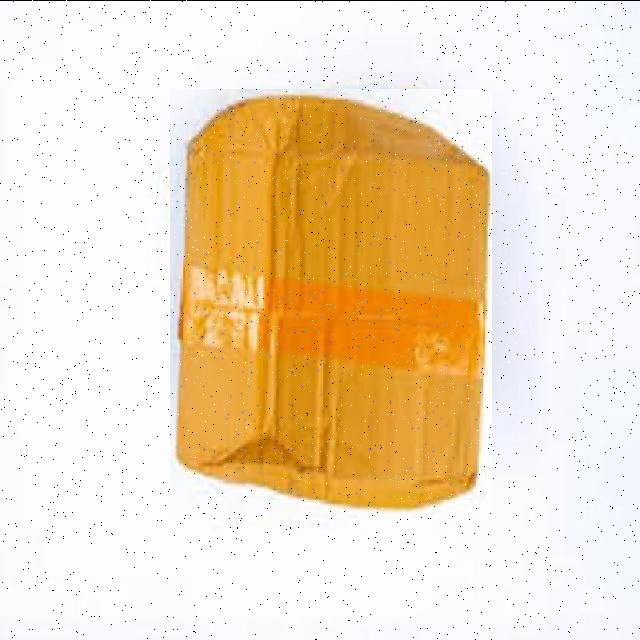defect: (170, 88, 492, 517)
